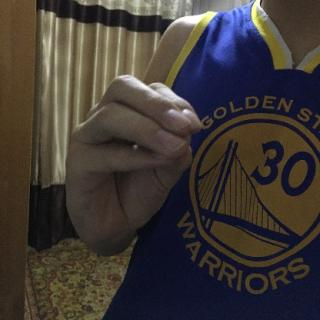HA: (59, 69, 201, 255)
